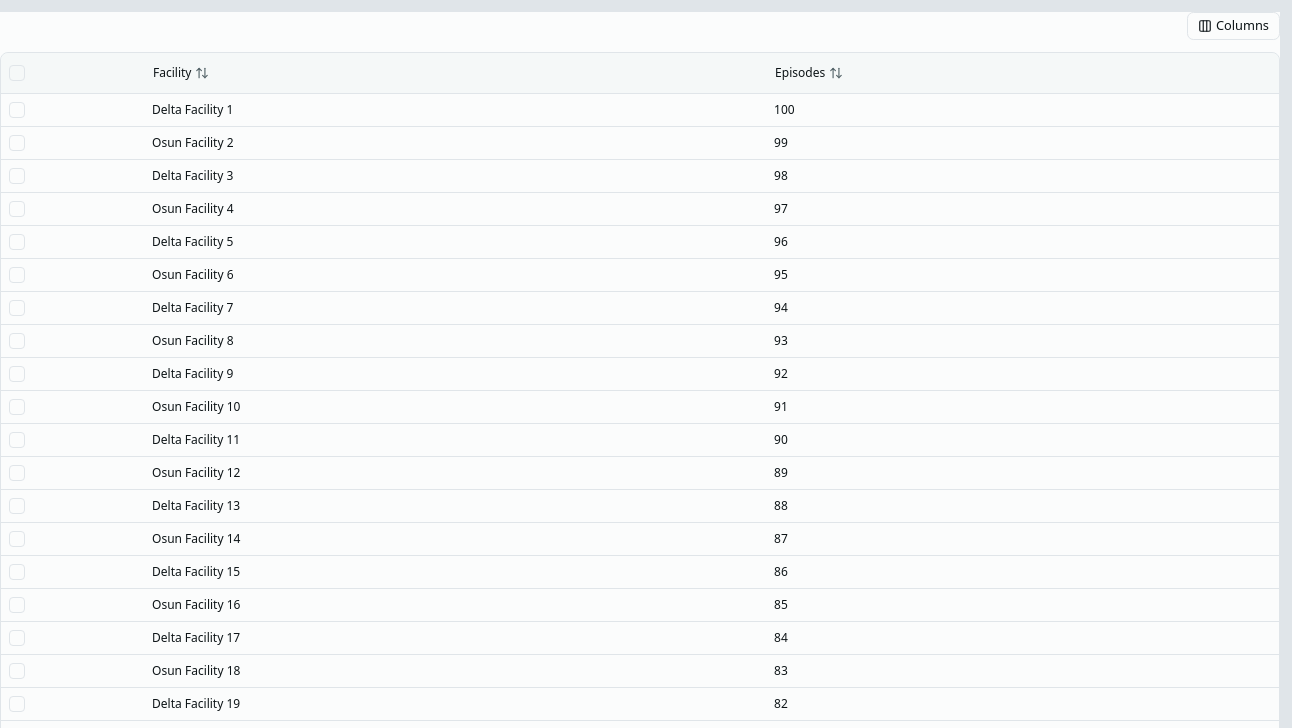
DataTable › hands the selected rows to the actions it was given
Click the checkbox named "Select r3" at (17, 176), box [9, 168, 25, 184]
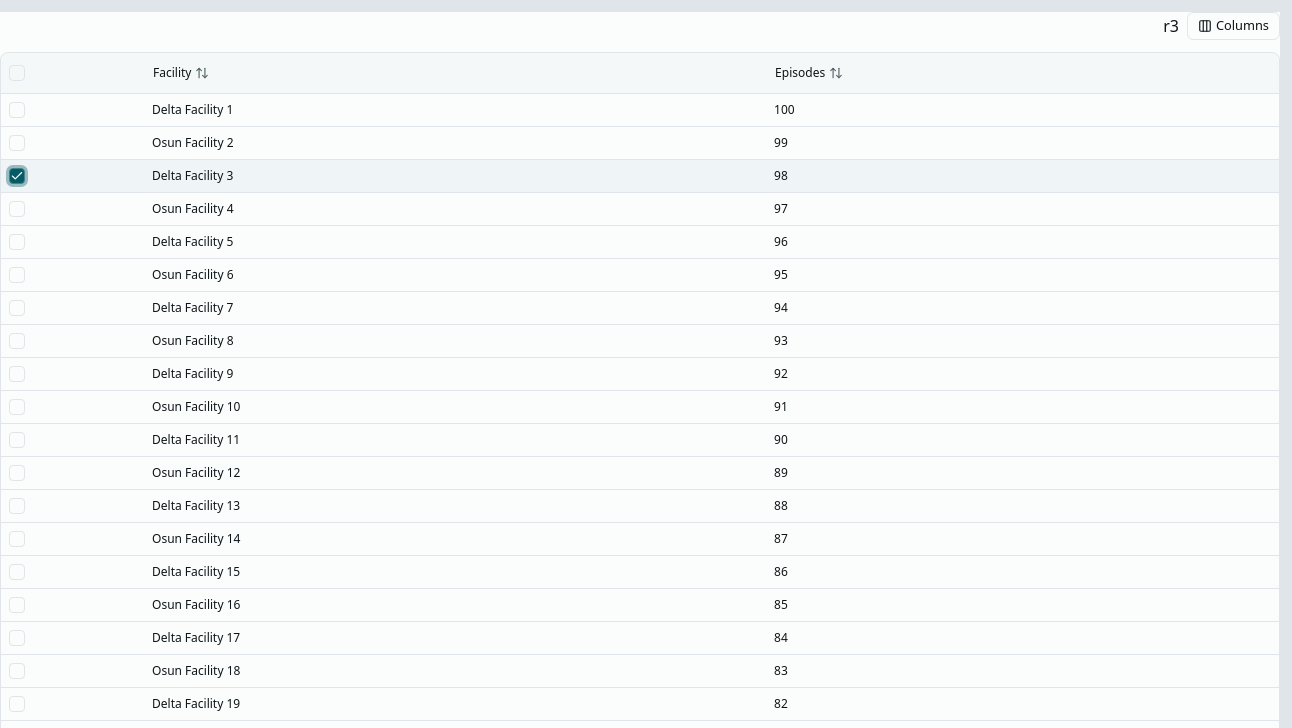
Result: the text with test id "picked" reads "r3" at [1163, 15, 1179, 37]
